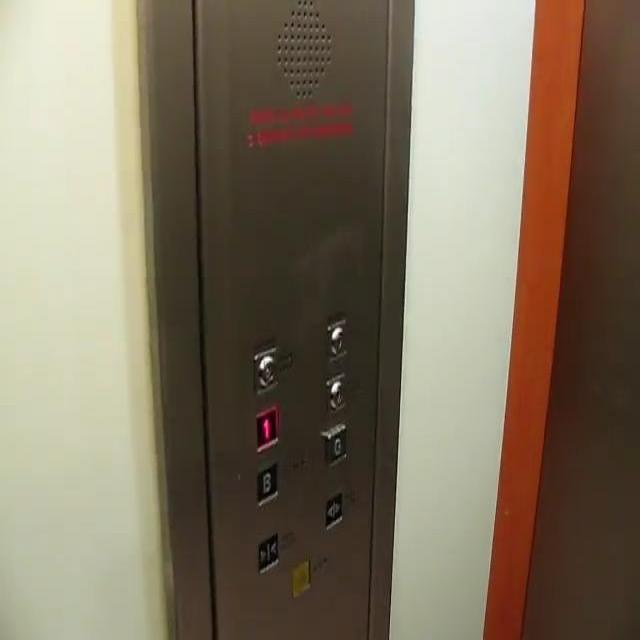1: (251, 404, 278, 451)
B: (253, 460, 278, 508)
G: (318, 422, 348, 466)
blur: (288, 559, 310, 597)
close: (254, 531, 280, 573)
keyhole: (251, 347, 277, 393), (325, 316, 349, 361), (326, 370, 347, 410)
open: (320, 490, 343, 530)
